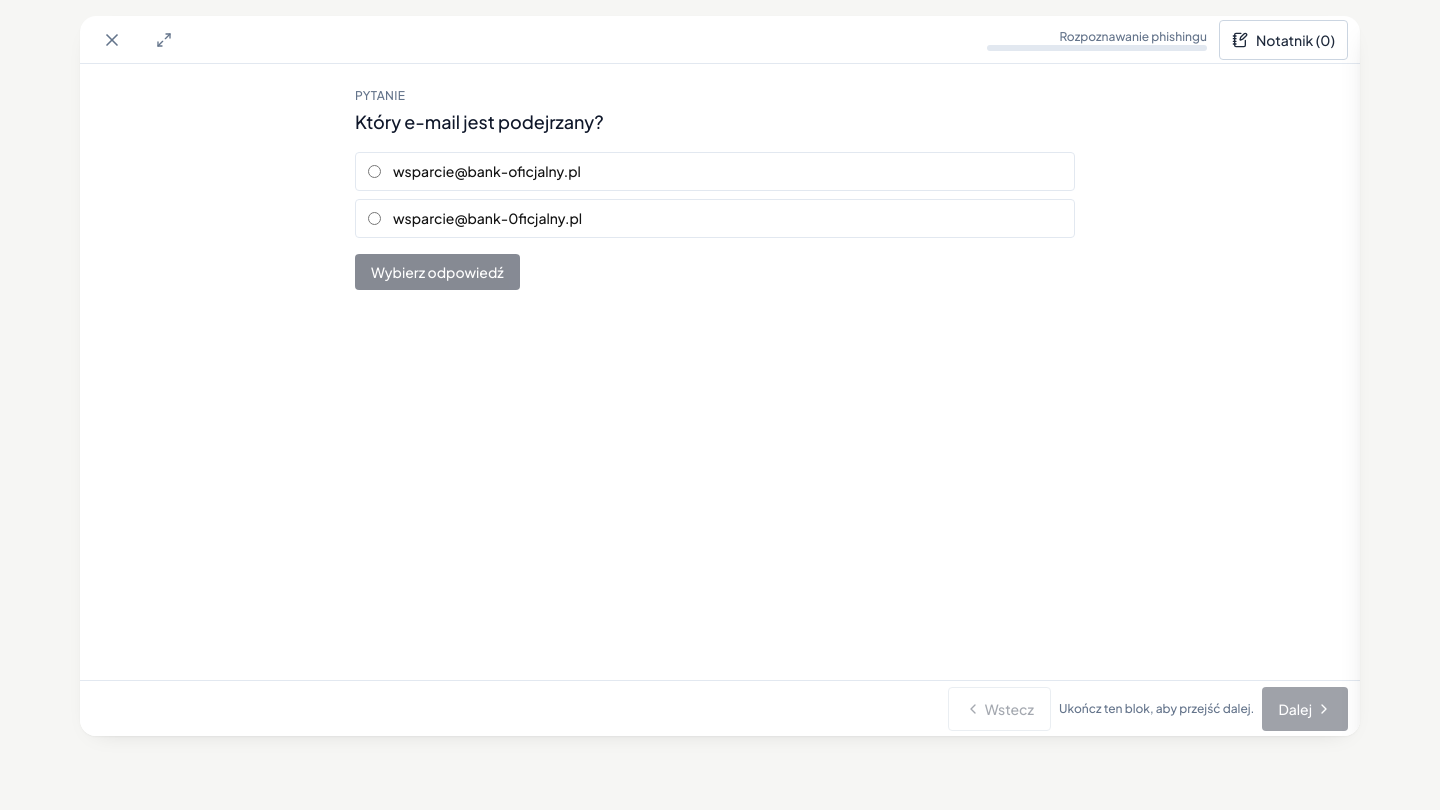
Test: CoursePlayer - przepływ kursu jednoblokowego › błąd sieci (fetch rzuca wyjątkiem) pokazuje komunikat, nie crashuje, pozwala spróbować ponownie
The width and height of the screenshot is (1440, 810).
Click the text "wsparcie@bank-oficjalny.pl": click(487, 172) [393,161,581,182]
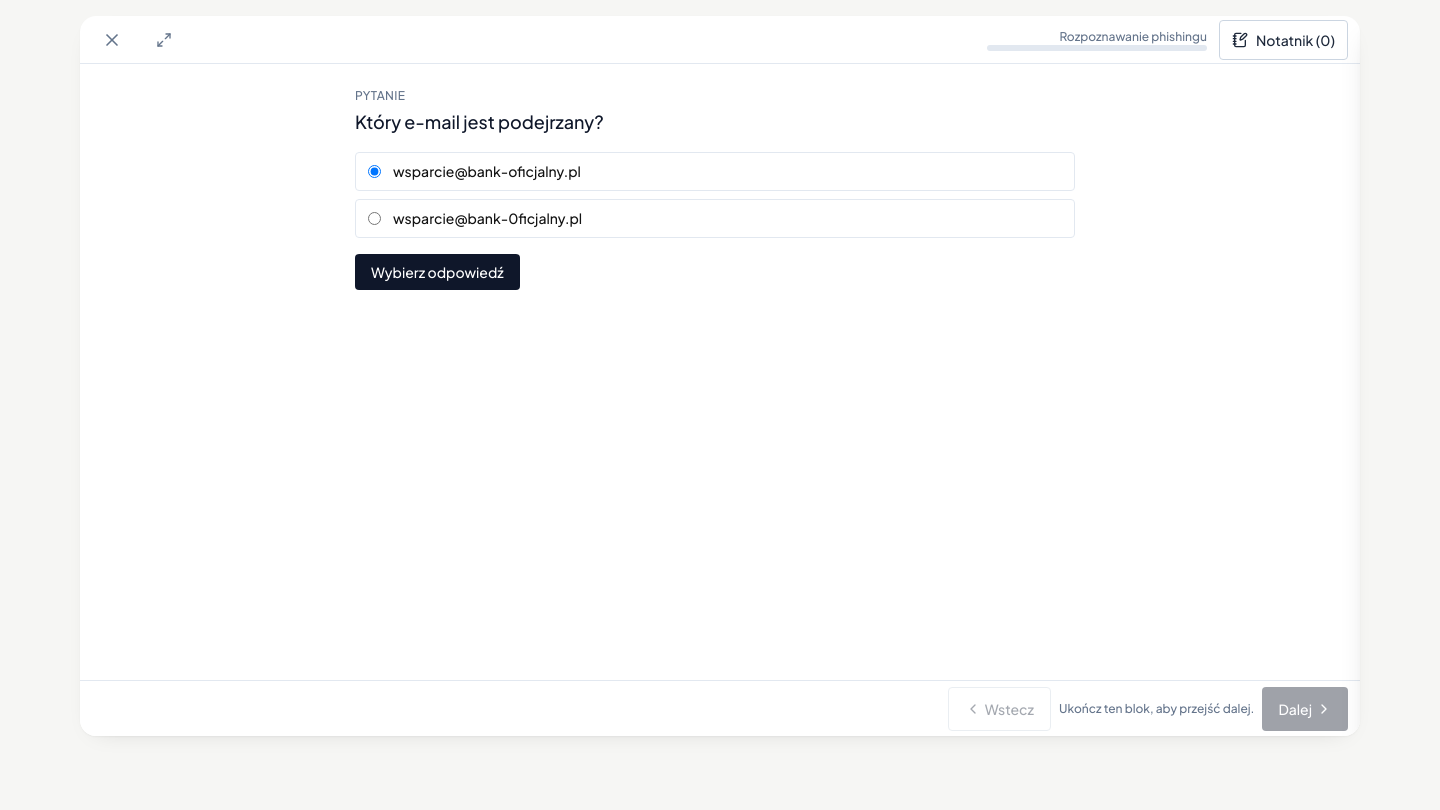
Click the button "Wybierz odpowiedź": click(437, 272) [355,254,520,290]
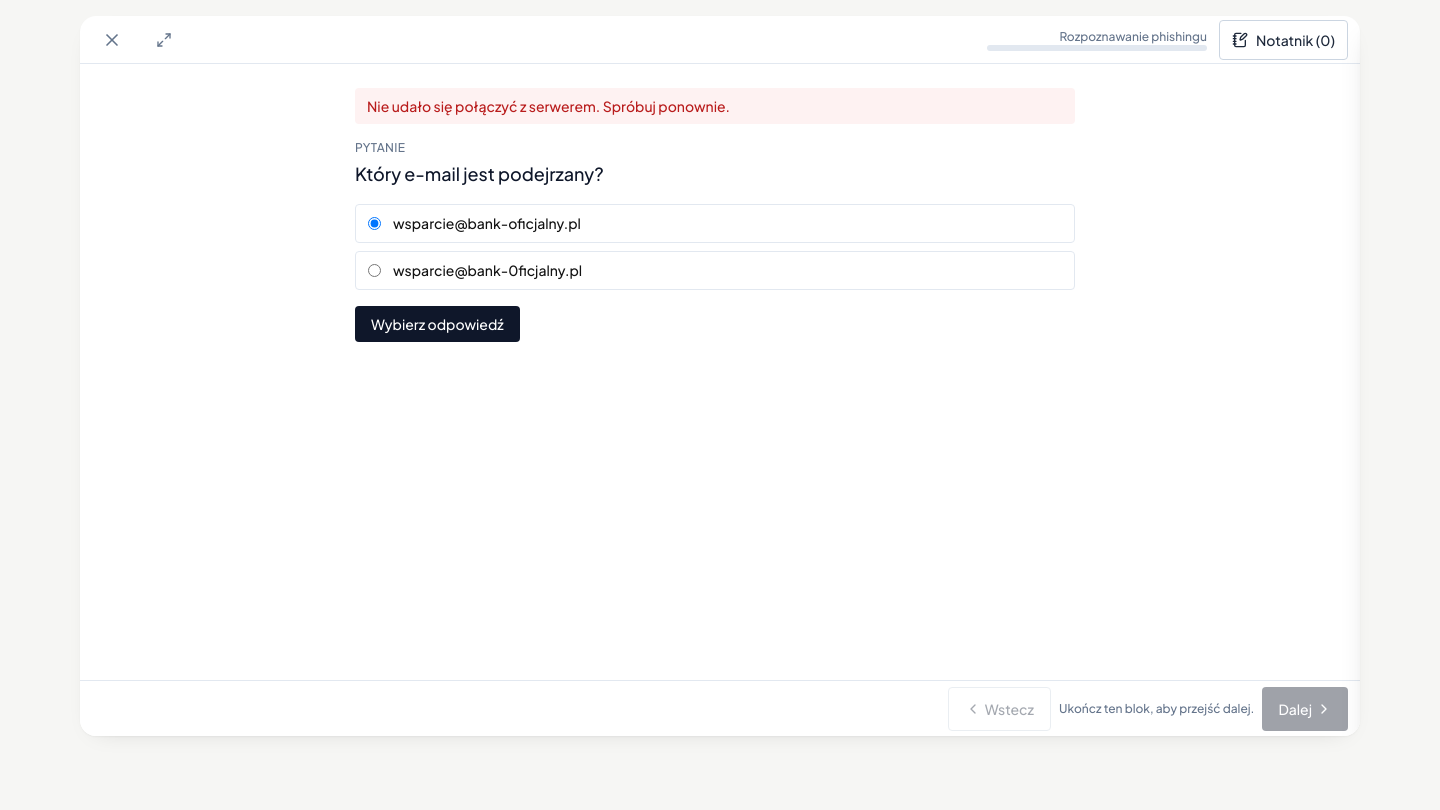
Expected: the text "Który e-mail jest podejrzany?" is shown, [355,162,604,185]
Result: the message shows "Nie udało się połączyć" at [367,97,730,115]
